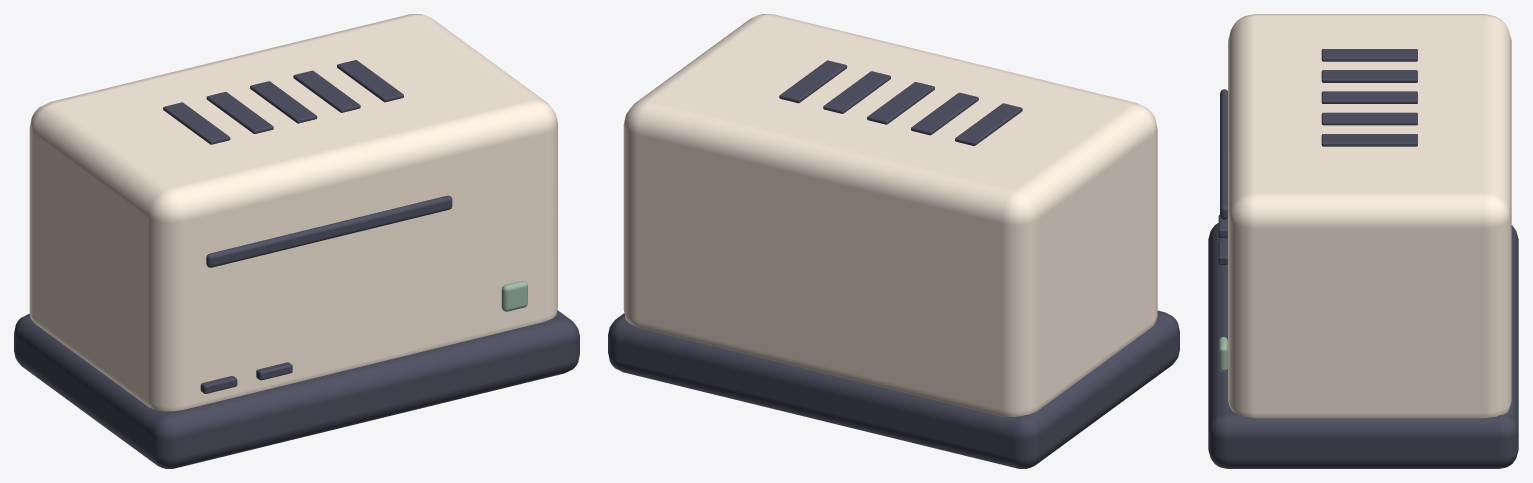
Rendered from little_console.glb.
The picture shows the model from 3 angles, left to right: view 1: azimuth 30°, elevation 25°; view 2: azimuth 150°, elevation 25°; view 3: azimuth 270°, elevation 25°; orthographic projection.
Bounding box in the file's own units: 0.48 × 0.2911 × 0.3026.
